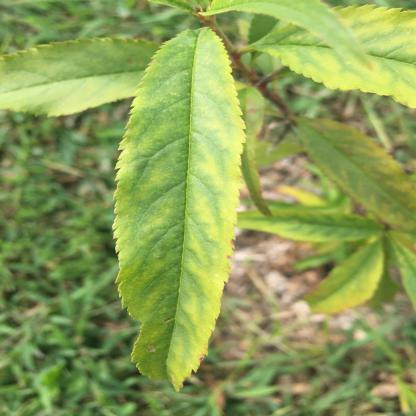peach leaf: (113, 25, 254, 396)
